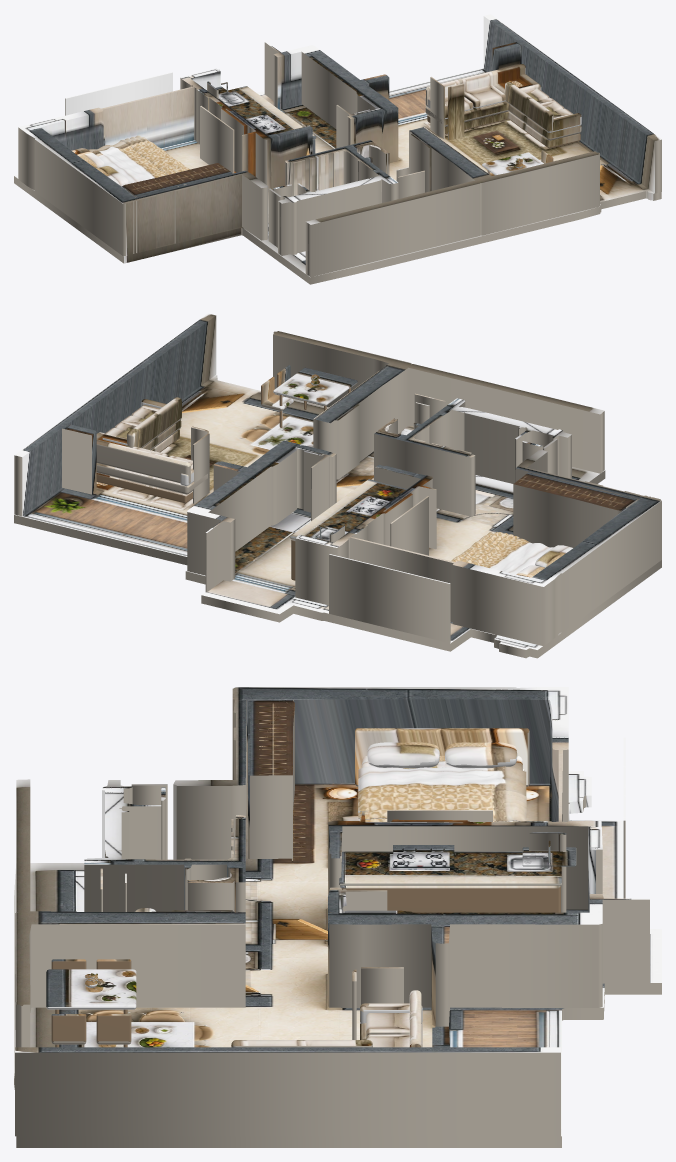
Rendered from p4-02-u05-0112-image-model.glb.
3 renders of one model, top to bottom at view 1: azimuth 30°, elevation 25°; view 2: azimuth 150°, elevation 25°; view 3: azimuth 270°, elevation 25°, orthographic. The views are drawn at different scales.
Parts seen in each view (by area): view 1: Partition walls, Apartment floor, Draped bed linen, Stone worktop, Sofa back.001, Sofa back, Draped bed linen.001, Marble dining top, Seat cushion.001, Upholstered sofa frame, Upholstered sofa frame.001, Sofa plinth.001 (+1 smaller); view 2: Partition walls, Apartment floor, Stone worktop, Sofa back, Marble dining top, Draped bed linen, Sofa back.001, Upholstered sofa frame, Sofa plinth, Draped bed linen.001; view 3: Partition walls, Apartment floor, Stone worktop, Draped bed linen, Kitchen cabinets, Marble dining top, Upholstered headboard, Draped bed linen.001, Tailored pillow, Tailored pillow.001, Inset cooktop, Sofa back.001 (+5 smaller).
Boxes of the visible parts, x1,y1,x2,y2 form: Partition walls: [18, 14, 661, 276]; Apartment floor: [14, 68, 661, 284]; Draped bed linen: [88, 137, 189, 183]; Stone worktop: [224, 86, 316, 139]; Sofa back.001: [505, 81, 553, 132]; Sofa back: [426, 64, 525, 105]; Draped bed linen.001: [119, 135, 185, 175]; Marble dining top: [482, 152, 543, 175]; Seat cushion.001: [464, 85, 505, 108]; Upholstered sofa frame: [425, 101, 508, 126]; Upholstered sofa frame.001: [508, 104, 581, 140]; Sofa plinth.001: [508, 111, 580, 148]; Partition walls: [14, 313, 661, 646]; Apartment floor: [14, 375, 661, 658]; Stone worktop: [290, 479, 407, 539]; Sofa back: [96, 439, 190, 483]; Marble dining top: [273, 367, 357, 405]; Draped bed linen: [451, 532, 553, 574]; Sofa back.001: [127, 397, 181, 447]; Upholstered sofa frame: [96, 463, 207, 494]; Sofa plinth: [96, 473, 192, 503]; Draped bed linen.001: [453, 532, 519, 565]; Partition walls: [15, 687, 649, 1136]; Apartment floor: [14, 771, 661, 1147]; Stone worktop: [339, 851, 561, 885]; Draped bed linen: [358, 766, 526, 821]; Kitchen cabinets: [340, 885, 560, 912]; Marble dining top: [46, 969, 136, 1009]; Upholstered headboard: [355, 728, 529, 786]; Draped bed linen.001: [358, 790, 526, 814]; Tailored pillow: [367, 742, 439, 768]; Tailored pillow.001: [444, 742, 517, 768]; Inset cooktop: [393, 845, 454, 867]; Sofa back.001: [231, 1040, 372, 1047].
Size of the model in its own units: 10.72 by 1.3 by 8.02.
Materials: 14 (3 with a texture image).
